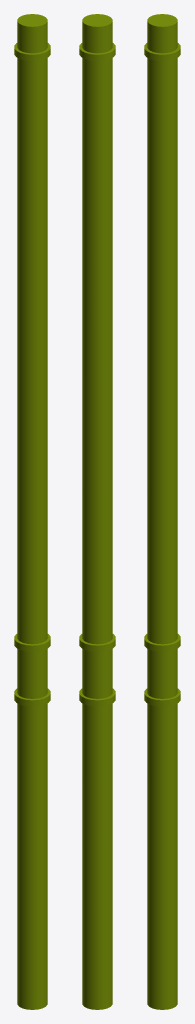
The model's file is SM_Poteau.fbx.
3 renders of one model, left to right at view 1: azimuth 30°, elevation 25°; view 2: azimuth 150°, elevation 25°; view 3: azimuth 330°, elevation 25°, orthographic.
Visible parts, largest first — view 1: Poteau; view 2: Poteau; view 3: Poteau.
Part boxes in pixels (<box>): Poteau: <box>14,14,50,1009</box>; Poteau: <box>79,14,115,1009</box>; Poteau: <box>144,14,180,1009</box>.
Size of the model in its own units: 25.15 by 740 by 24.77.
